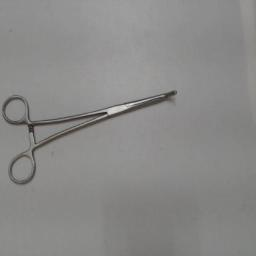Lahey Forceps: (2, 85, 182, 191)
